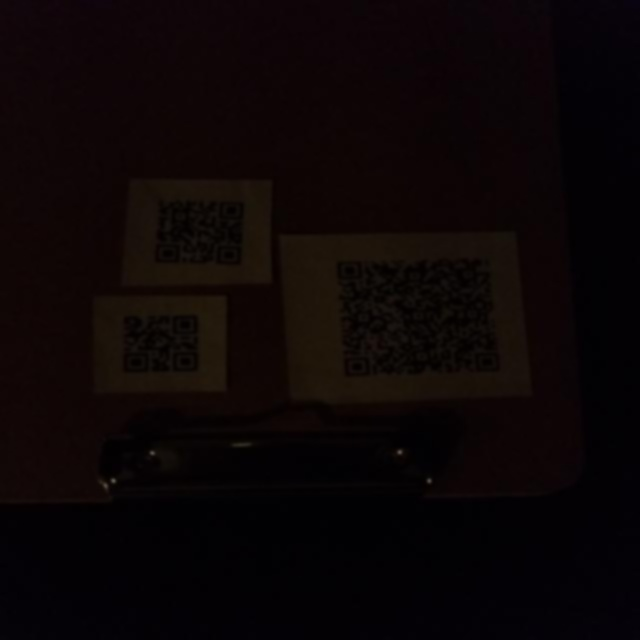qr-code: (322, 248, 514, 390), (136, 186, 262, 274), (107, 302, 220, 384)
